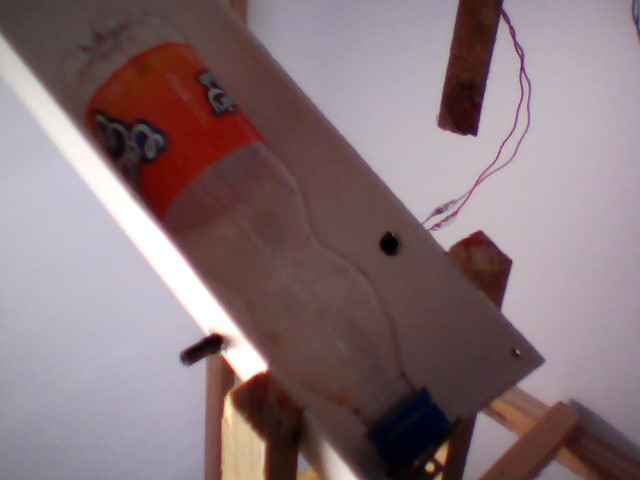plastico: (39, 1, 458, 478)
